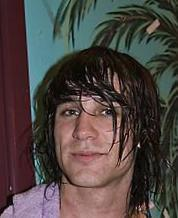face: (61, 98, 120, 165)
